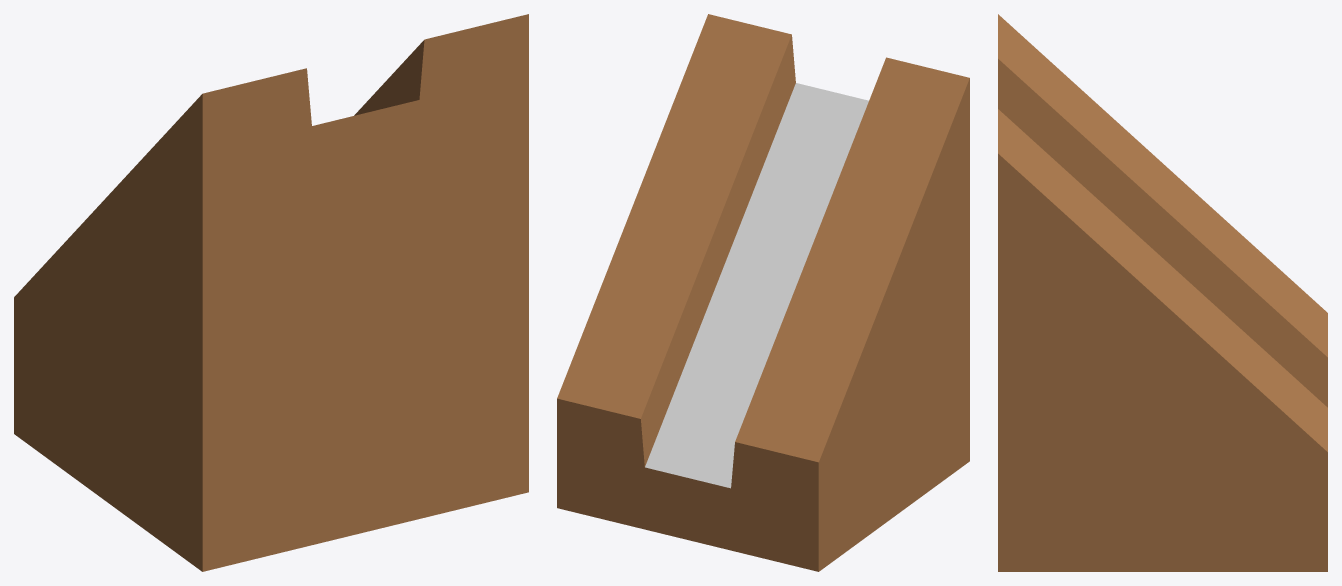
Rendered from stairbarrier.fbx.
3 views of the same model, side by side, from view 1: azimuth 30°, elevation 25°; view 2: azimuth 150°, elevation 25°; view 3: azimuth 270°, elevation 25° (orthographic). The views are drawn at different scales.
Parts seen in each view (by area): view 1: Cube; view 2: Cube; view 3: Cube.
Boxes of the visible parts, x1,y1,x2,y2 form: Cube: [14, 14, 528, 571]; Cube: [557, 14, 969, 571]; Cube: [998, 14, 1327, 571].
Bounding box in the file's own units: 100 × 140 × 100.
